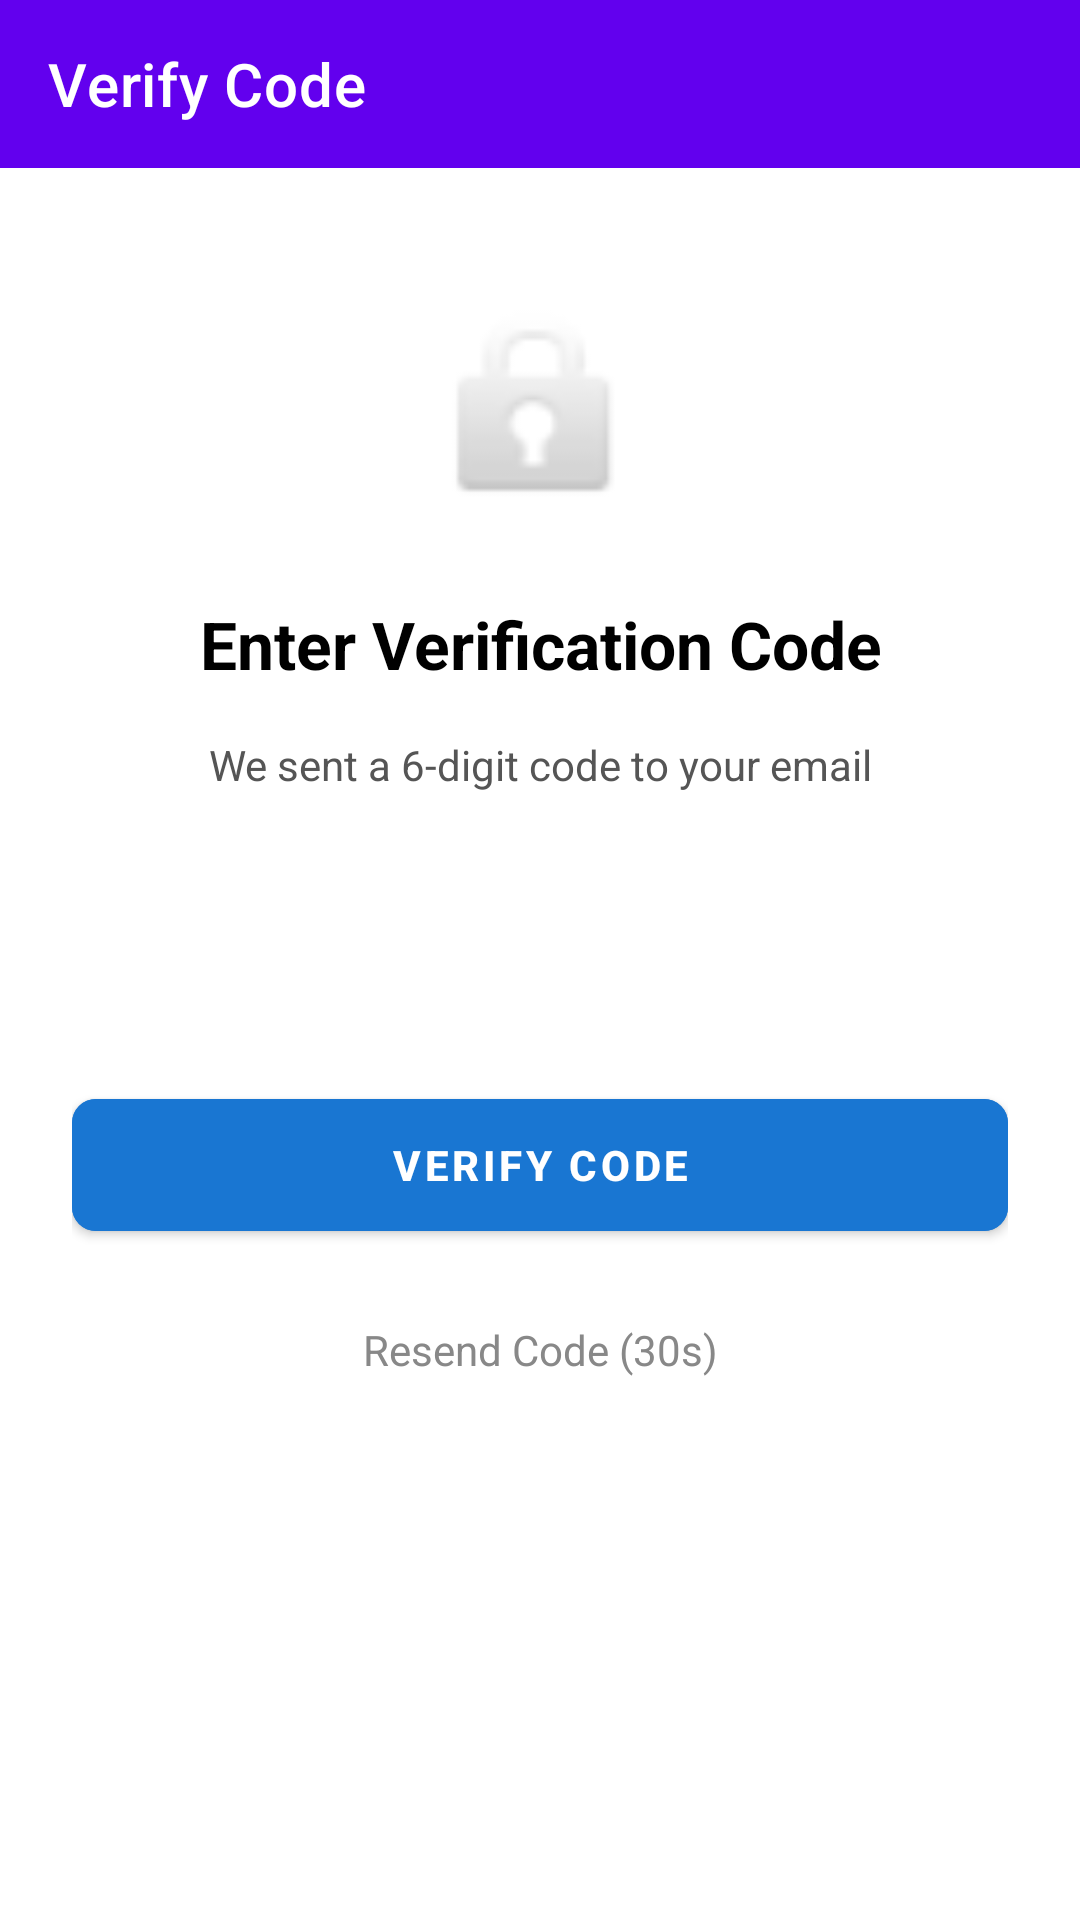

Icon bounding boxes for this 1080*1920 phone screenshot, format (x1, y1, x2, y2):
lock idle: (458, 389, 609, 491)
